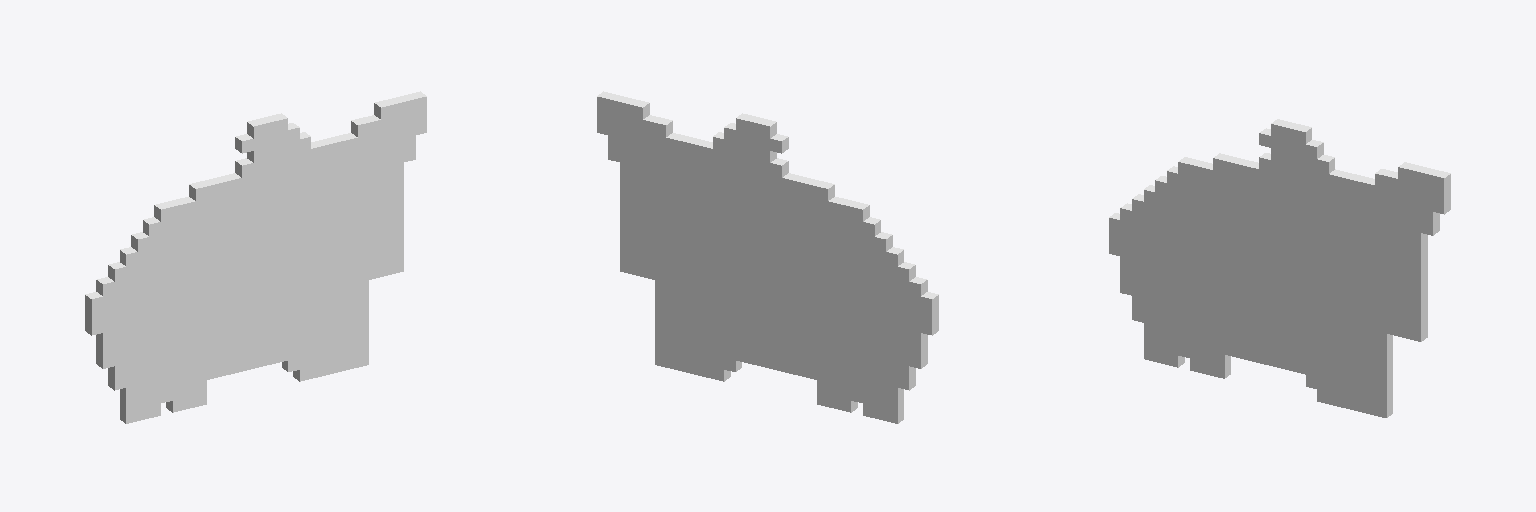
File: potato_sad.obj
The picture shows the model from 3 angles: view 1: azimuth 30°, elevation 25°; view 2: azimuth 150°, elevation 25°; view 3: azimuth 330°, elevation 25°; orthographic projection.
Parts seen in each view (by area): view 1: object 1; view 2: object 1; view 3: object 1.
Part boxes in pixels (left/top/right/bottom): object 1: left=85, top=91, right=426, bottom=423; object 1: left=597, top=91, right=938, bottom=423; object 1: left=1109, top=119, right=1450, bottom=417.
Bounding box in the file's own units: 2.9 × 2.2 × 0.1.